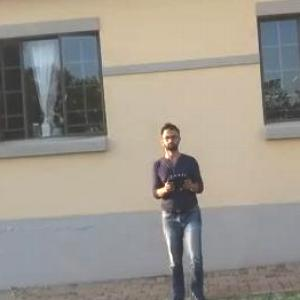follow: (148, 118, 212, 299)
